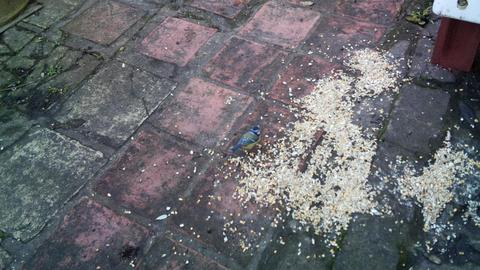blue tit: (231, 124, 261, 152)
